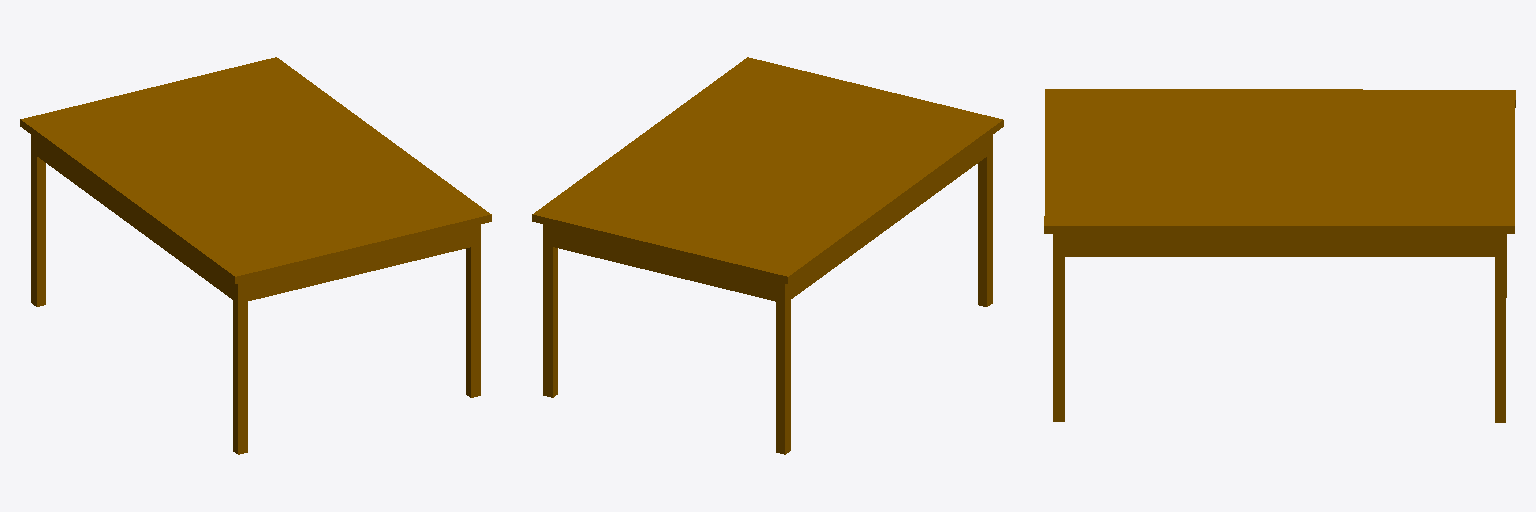
robot.urdf — diningtable:
<?xml version="1.0"?>
<robot name="diningtable">
<link name="diningtable_base_link">
  <inertial>
    <mass value="0.0"/>
    <origin xyz="0 0 0" rpy="0 0 1.57"/>
    <inertia ixx="0.01" ixy="0" ixz="0" iyy="0.01" iyz="0" izz="0.01"/>
  </inertial>

  <visual>
    <origin xyz="0 0 0" rpy="0 0 1.57"/>
    <geometry>
      <mesh filename="package://meshes/diningtable.dae" scale="1 1 1"/>
    </geometry>
    <material name="material_name">
      <color rgba="0.6 0.4 0 1.0"/>
    </material>
  </visual>

  <collision>
    <origin xyz="0 0 0" rpy="0 0 1.57"/>
    <geometry>
      <mesh filename="package://meshes/diningtable.dae" scale="1 1 1"/> 
      
      </geometry>
  </collision>
</link>
</robot>

--- Facts derived from the render (not from the file) ---
The picture shows the robot from 3 angles, left to right: view 1: azimuth 30°, elevation 25°; view 2: azimuth 150°, elevation 25°; view 3: azimuth 270°, elevation 25°; orthographic projection.
Robot: diningtable — 1 links, 0 joints (none); root link diningtable_base_link; default pose: all joints at 0.
Links seen in each view (by area): view 1: diningtable_base_link; view 2: diningtable_base_link; view 3: diningtable_base_link.
Boxes of the visible links, x1=… form: diningtable_base_link: x1=20, y1=57, x2=491, y2=454; diningtable_base_link: x1=532, y1=57, x2=1003, y2=454; diningtable_base_link: x1=1044, y1=89, x2=1515, y2=422.
Size in the robot's own frame: 1.1 by 1.6 by 0.75 metres.
Meshes: 1 distinct files referenced, 1 mesh visuals loaded (1 Collada DAE).
